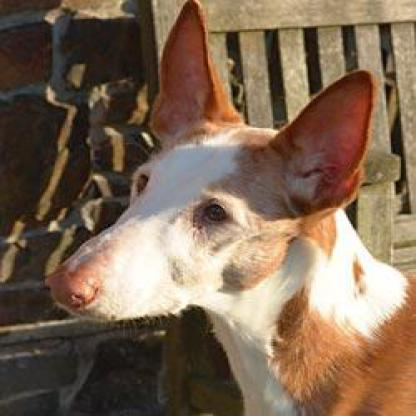dog: (26, 0, 415, 408)
